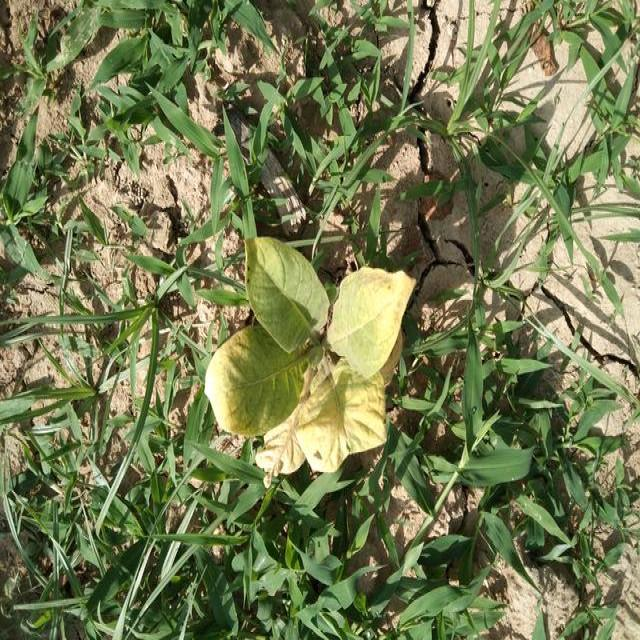crop: (200, 224, 414, 482)
